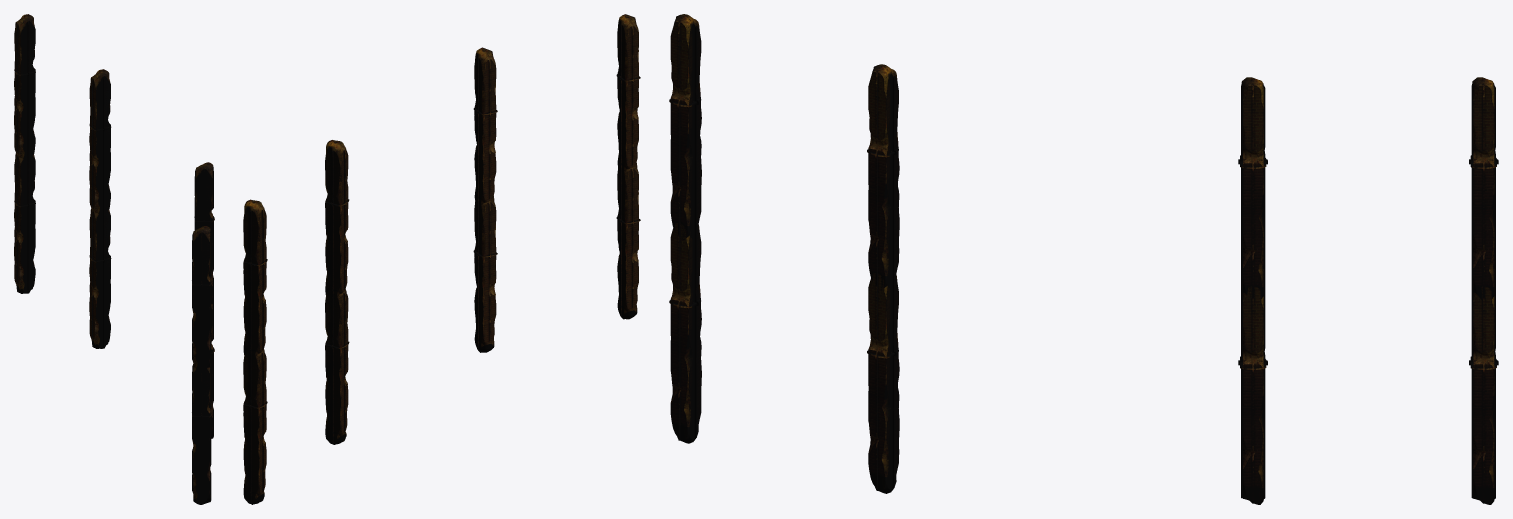
3 renders of one model, left to right at view 1: azimuth 30°, elevation 25°; view 2: azimuth 150°, elevation 25°; view 3: azimuth 270°, elevation 25°, orthographic. The views are drawn at different scales.
Visible parts, largest first — view 1: pi1; view 2: pi1; view 3: pi1.
Part boxes in pixels (<box>): pi1: <box>14,14,214,504</box>; pi1: <box>243,14,640,504</box>; pi1: <box>669,14,1498,504</box>.
Bounding box in the file's own units: 8.39 × 21.75 × 38.3.
Materials: 1 (1 with a texture image).
